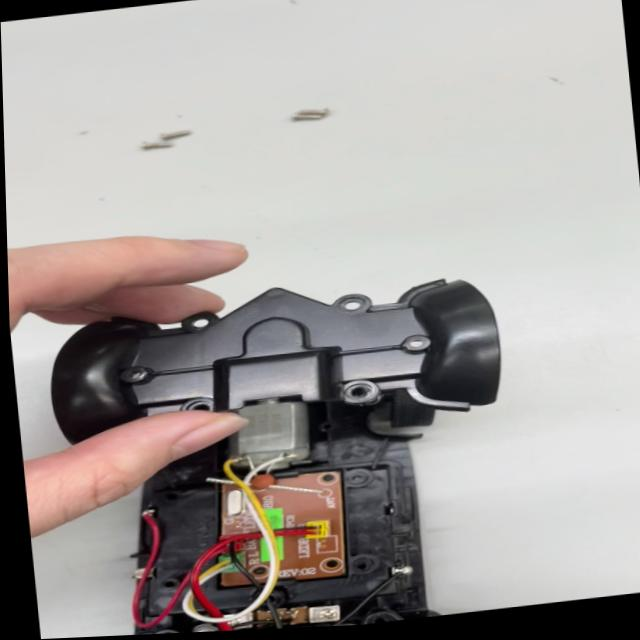motor_cover: (113, 285, 424, 427)
